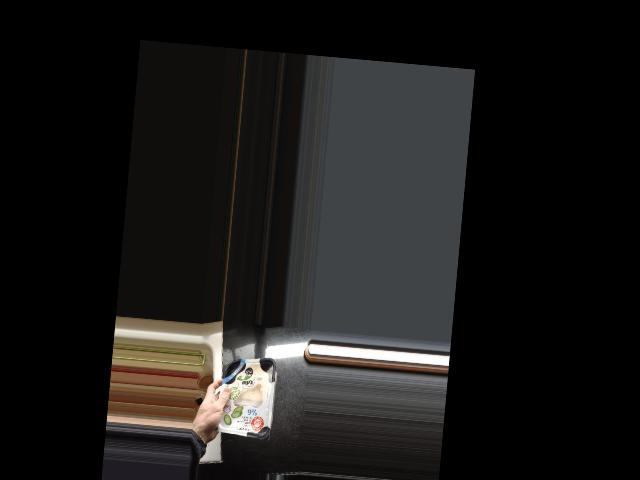cheese: (210, 355, 276, 439)
